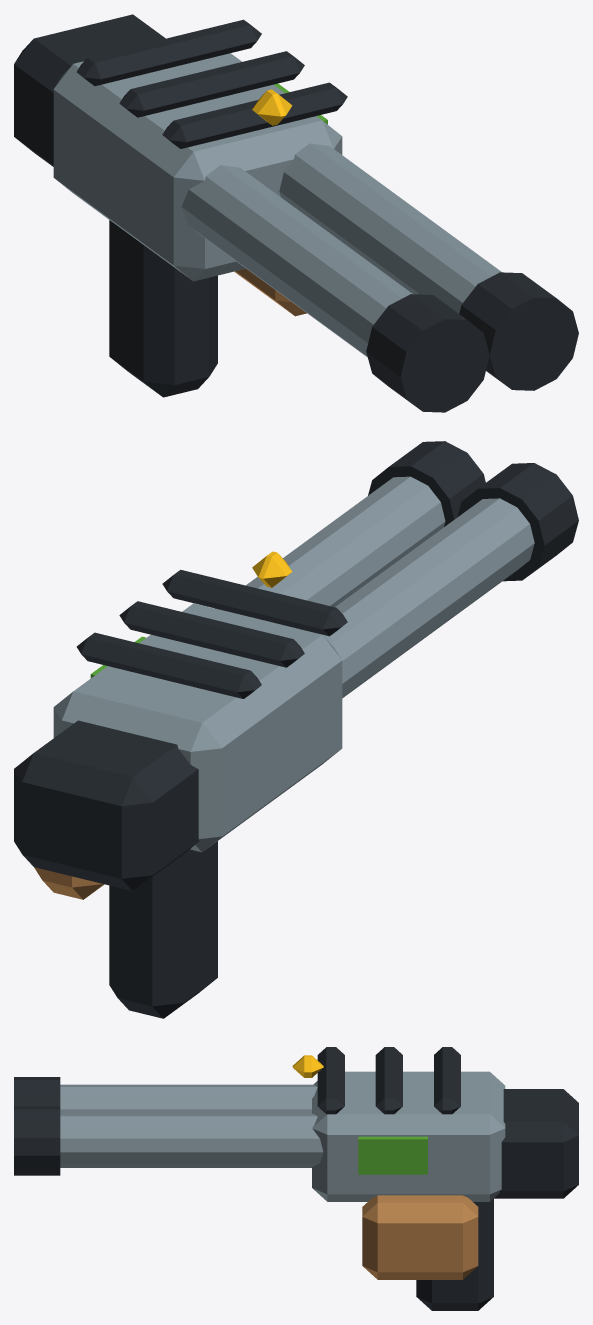
File: tool.glb
3 views of the same model, one above another, from view 1: azimuth 30°, elevation 25°; view 2: azimuth 150°, elevation 25°; view 3: azimuth 270°, elevation 25° (orthographic). The views are drawn at different scales.
Parts seen in each view (by area): view 1: tool; view 2: tool; view 3: tool.
Boxes of the visible parts, x1,y1,x2,y2 form: tool: (14, 14, 578, 412); tool: (14, 441, 578, 1018); tool: (14, 1047, 578, 1310).
Bounding box in the file's own units: 0.43 × 0.71 × 1.46.
